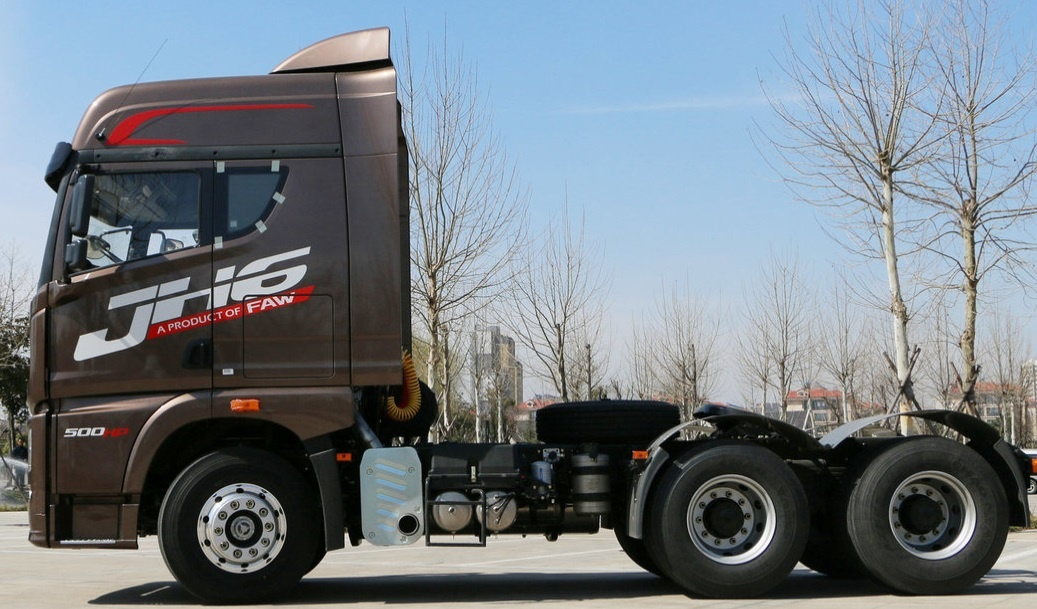heavy truck: (35, 39, 1009, 599)
